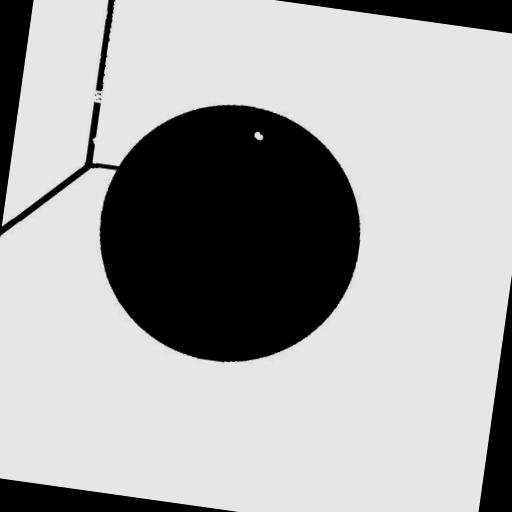mousebite: (82, 128, 106, 153)
open: (82, 82, 112, 112)
pin-hole: (245, 122, 272, 148)
short: (77, 152, 138, 182)
